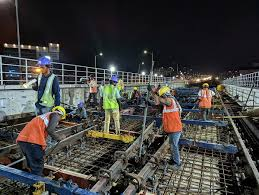arm: (46, 111, 67, 141), (51, 76, 62, 107), (150, 89, 167, 105), (191, 88, 202, 108)
face: (37, 63, 51, 75)
footwear: (166, 159, 181, 170)
glove: (160, 94, 172, 105), (53, 131, 66, 141)
helmet: (50, 104, 66, 119), (35, 53, 53, 66), (156, 83, 171, 97), (108, 74, 119, 83), (200, 81, 210, 88)
human: (14, 103, 67, 176), (153, 81, 189, 171), (29, 52, 62, 114), (98, 73, 124, 132), (192, 79, 214, 111)
leg: (165, 130, 184, 170), (24, 142, 43, 175), (111, 107, 122, 133), (101, 107, 111, 132)
nogoggle: (38, 64, 49, 70)
novest: (34, 72, 59, 107)
vest: (18, 113, 52, 143), (34, 72, 59, 108), (161, 96, 182, 131), (100, 84, 119, 109), (197, 87, 211, 107), (88, 80, 97, 92)
